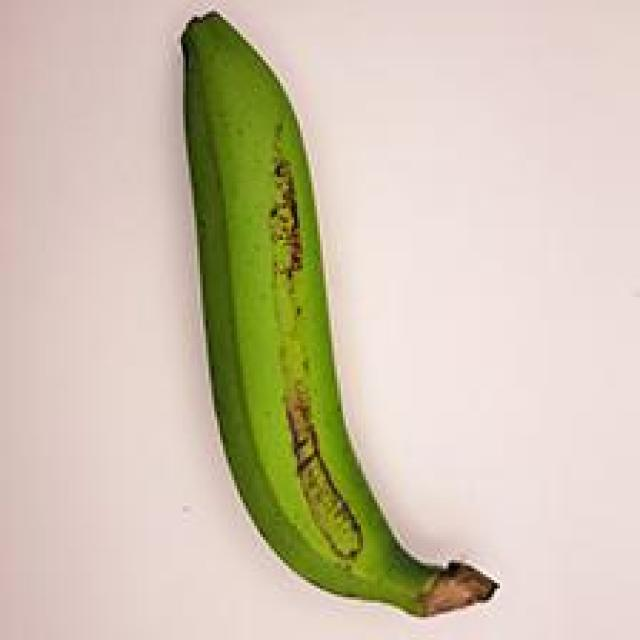Raw: (151, 2, 514, 630)
